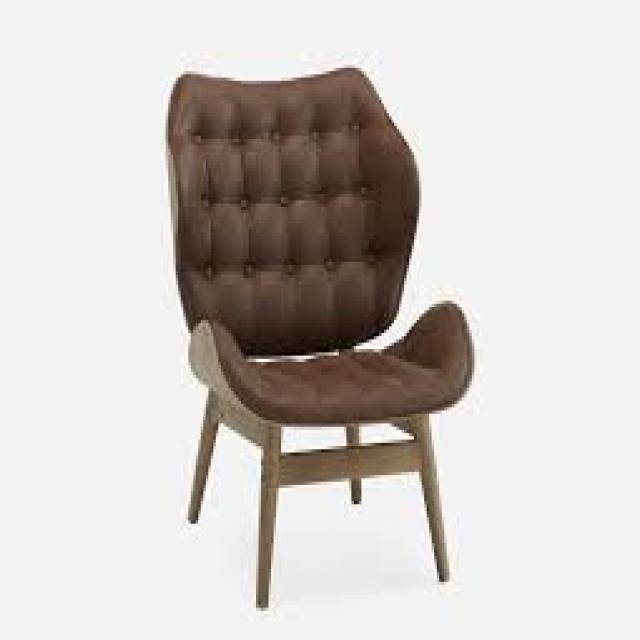chair: (94, 39, 536, 621)
